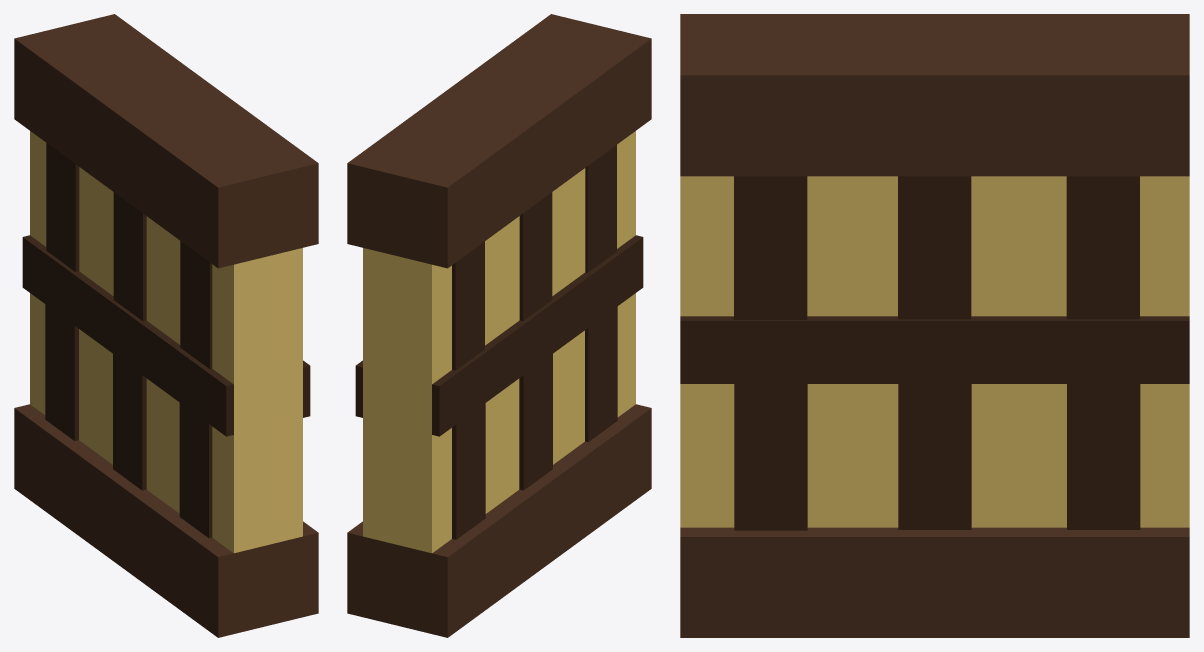
File: Wall_Planks_1x3x3.fbx
3 renders of one model, left to right at view 1: azimuth 30°, elevation 25°; view 2: azimuth 150°, elevation 25°; view 3: azimuth 270°, elevation 25°, orthographic. The views are drawn at different scales.
Visible parts, largest first — view 1: Wall Planks 1x3x3; view 2: Wall Planks 1x3x3; view 3: Wall Planks 1x3x3.
Boxes of the visible parts, bbox=[...] form: Wall Planks 1x3x3: bbox=[14, 14, 318, 637]; Wall Planks 1x3x3: bbox=[347, 14, 651, 637]; Wall Planks 1x3x3: bbox=[680, 14, 1189, 637].
Bounding box in the file's own units: 56.9 × 244 × 200.
